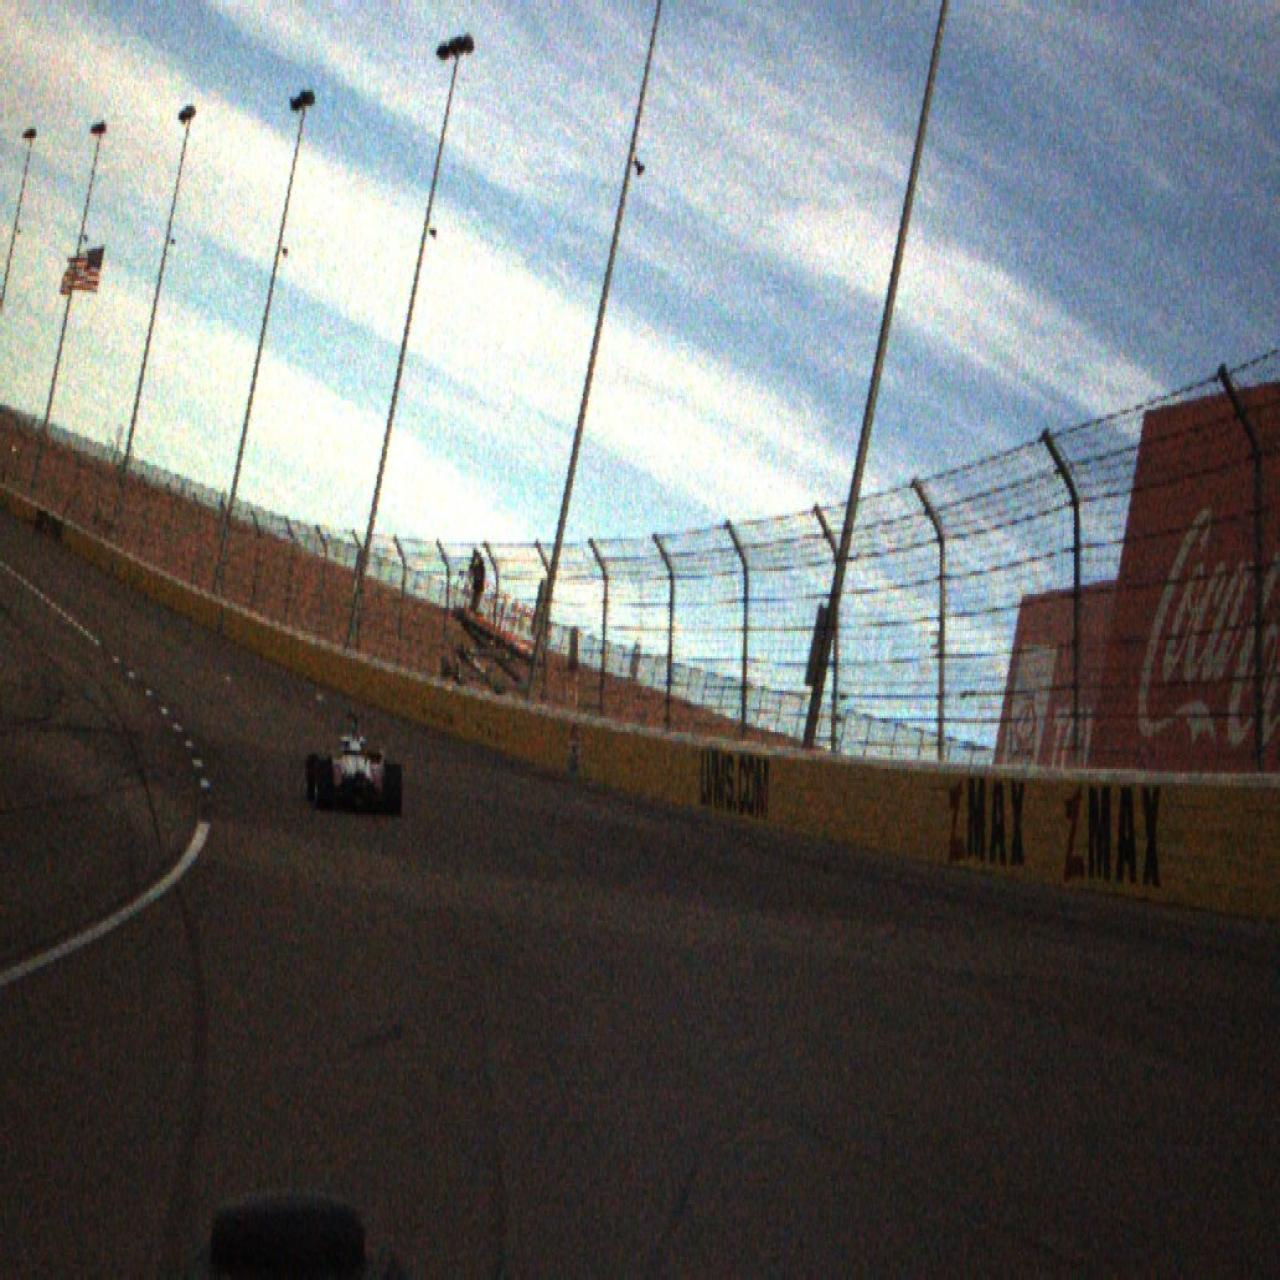AV: (303, 711, 403, 817)
Wheel: (315, 758, 333, 811), (384, 764, 402, 816), (304, 753, 319, 802)
